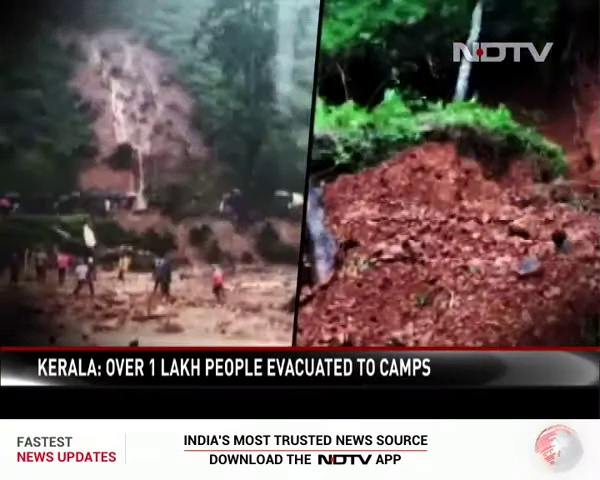person: (205, 266, 226, 303), (152, 255, 168, 301), (77, 259, 94, 302), (8, 252, 21, 291), (55, 250, 67, 289), (34, 251, 48, 284), (2, 190, 22, 213)
